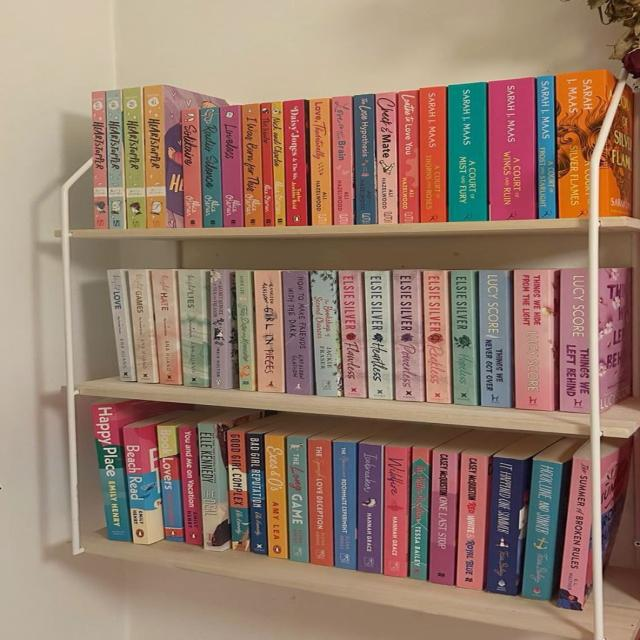book: (555, 70, 608, 219), (490, 77, 535, 220), (520, 460, 562, 601), (556, 457, 593, 612), (447, 82, 487, 222), (485, 456, 523, 596), (515, 270, 551, 410), (94, 404, 130, 541), (560, 269, 593, 413), (479, 270, 511, 408), (393, 268, 424, 400), (457, 453, 487, 589), (310, 269, 341, 396), (282, 271, 313, 394), (429, 451, 457, 585), (364, 271, 393, 400), (420, 86, 447, 223), (338, 270, 367, 397), (254, 271, 284, 393), (423, 270, 450, 403), (123, 87, 147, 228), (152, 269, 181, 385), (144, 85, 167, 228), (358, 443, 383, 574), (384, 446, 409, 577), (179, 270, 207, 386), (451, 270, 475, 405), (128, 269, 156, 382), (122, 427, 149, 544), (353, 94, 377, 224), (397, 90, 420, 224), (198, 423, 222, 551), (333, 441, 357, 569), (199, 106, 224, 228), (308, 439, 332, 566), (157, 425, 183, 541), (107, 269, 134, 380), (376, 93, 399, 223), (265, 434, 289, 558), (309, 98, 332, 225), (106, 89, 127, 228), (286, 437, 309, 562), (284, 100, 307, 225), (332, 96, 354, 225), (220, 105, 243, 226), (242, 103, 264, 227), (537, 76, 556, 219), (179, 428, 202, 546), (410, 448, 430, 580), (235, 270, 256, 391), (227, 431, 248, 551), (181, 109, 202, 228), (92, 91, 110, 229), (247, 433, 267, 554), (210, 269, 227, 388), (271, 102, 286, 226), (260, 102, 274, 226)
